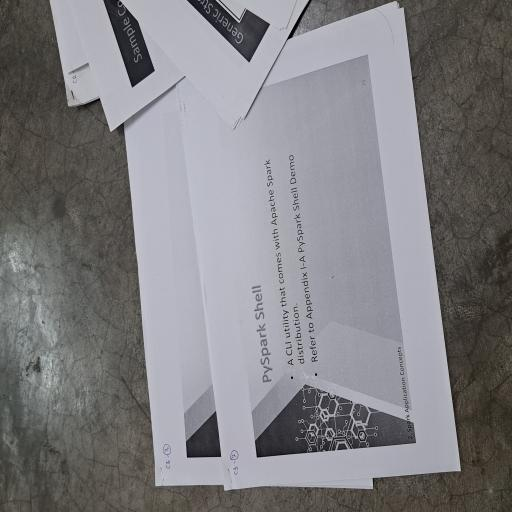paper: (16, 67, 384, 512)
